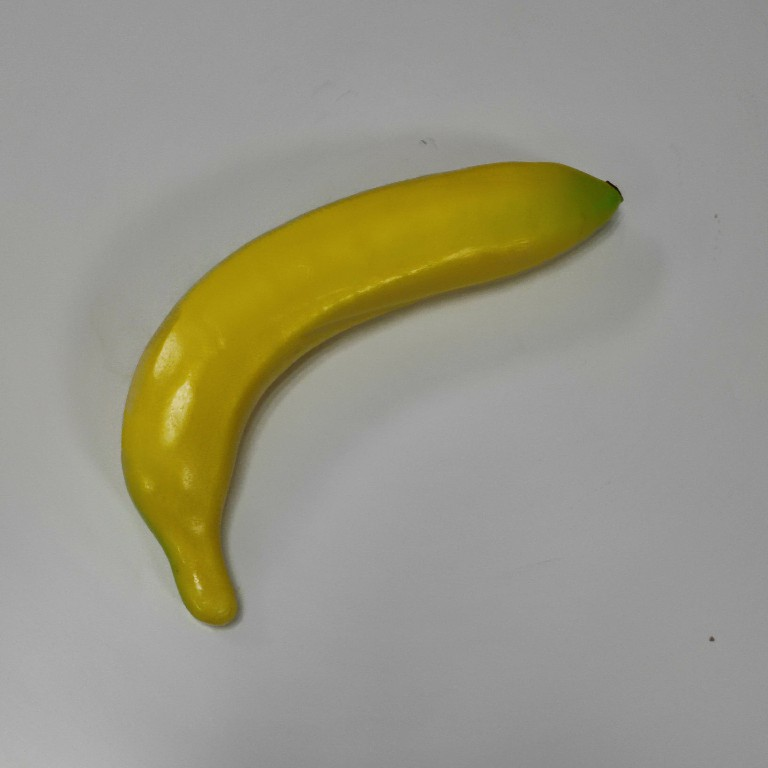fruit_banana: (112, 157, 629, 635)
